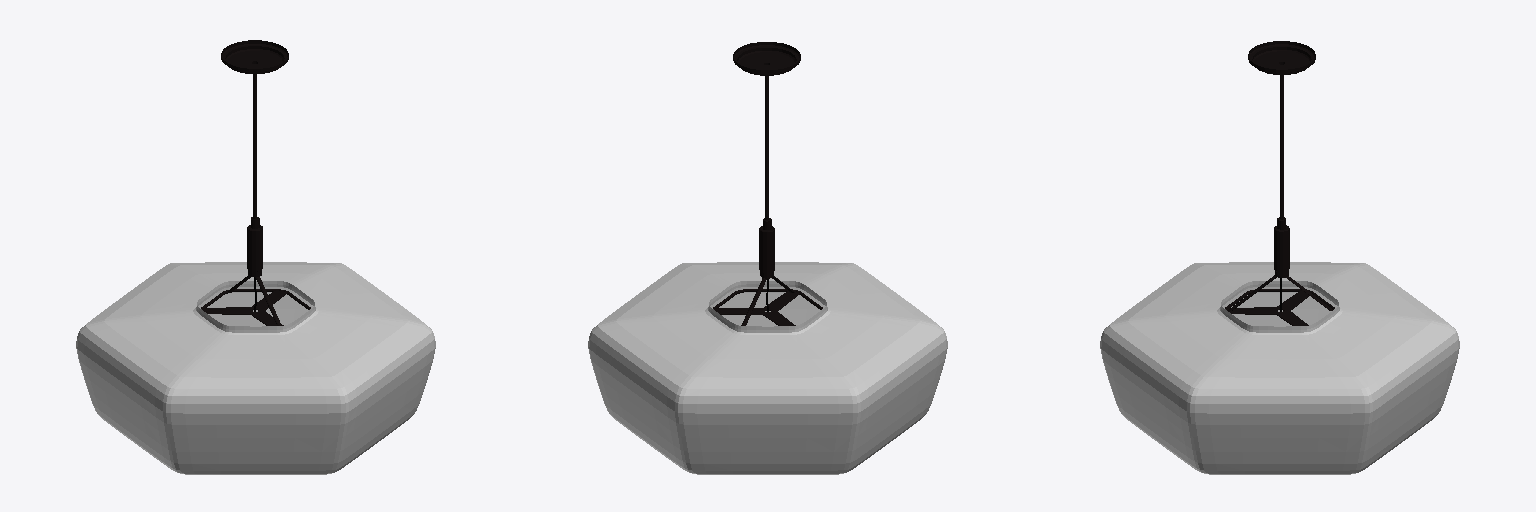
Rendered from lamp.obj.
3 renders of one model, left to right at view 1: azimuth 30°, elevation 25°; view 2: azimuth 150°, elevation 25°; view 3: azimuth 270°, elevation 25°, orthographic.
Parts seen in each view (by area): view 1: Circle.006, Cylinder941.000, Cylinder938.000, Circle.002, Cylinder939.000; view 2: Circle.006, Cylinder941.000, Circle.002, Cylinder938.000, Cylinder939.000; view 3: Circle.006, Cylinder941.000, Circle.002, Cylinder938.000, Cylinder939.000.
Part boxes in pixels (x1,y1,x2,y2): Circle.006: (76,262,435,474); Cylinder941.000: (221,40,288,73); Cylinder938.000: (247,217,262,277); Circle.002: (203,290,286,325); Cylinder939.000: (253,74,256,218); Circle.006: (588,262,947,474); Cylinder941.000: (733,42,800,75); Circle.002: (715,291,799,325); Cylinder938.000: (759,218,774,278); Cylinder939.000: (765,76,768,219); Circle.006: (1100,262,1459,474); Cylinder941.000: (1248,41,1315,74); Circle.002: (1227,290,1308,325); Cylinder938.000: (1274,217,1289,277); Cylinder939.000: (1280,75,1283,219).
Bounding box in the file's own units: 0.3379 × 0.4742 × 0.3852.